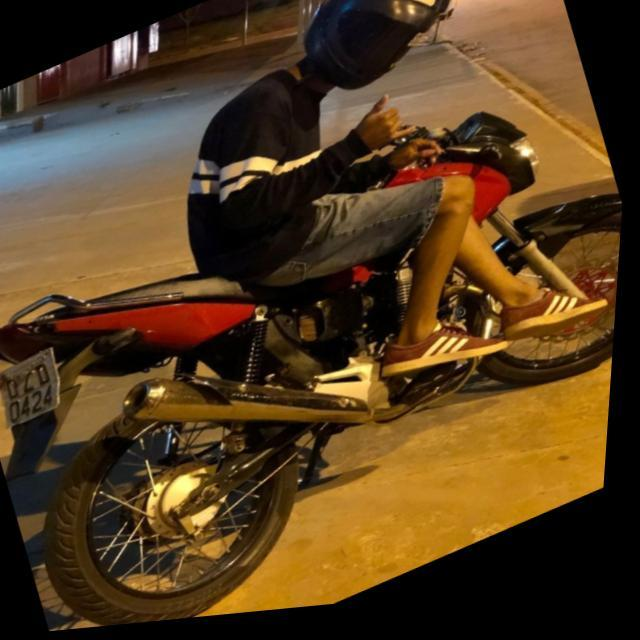Helmet: (300, 0, 453, 99)
